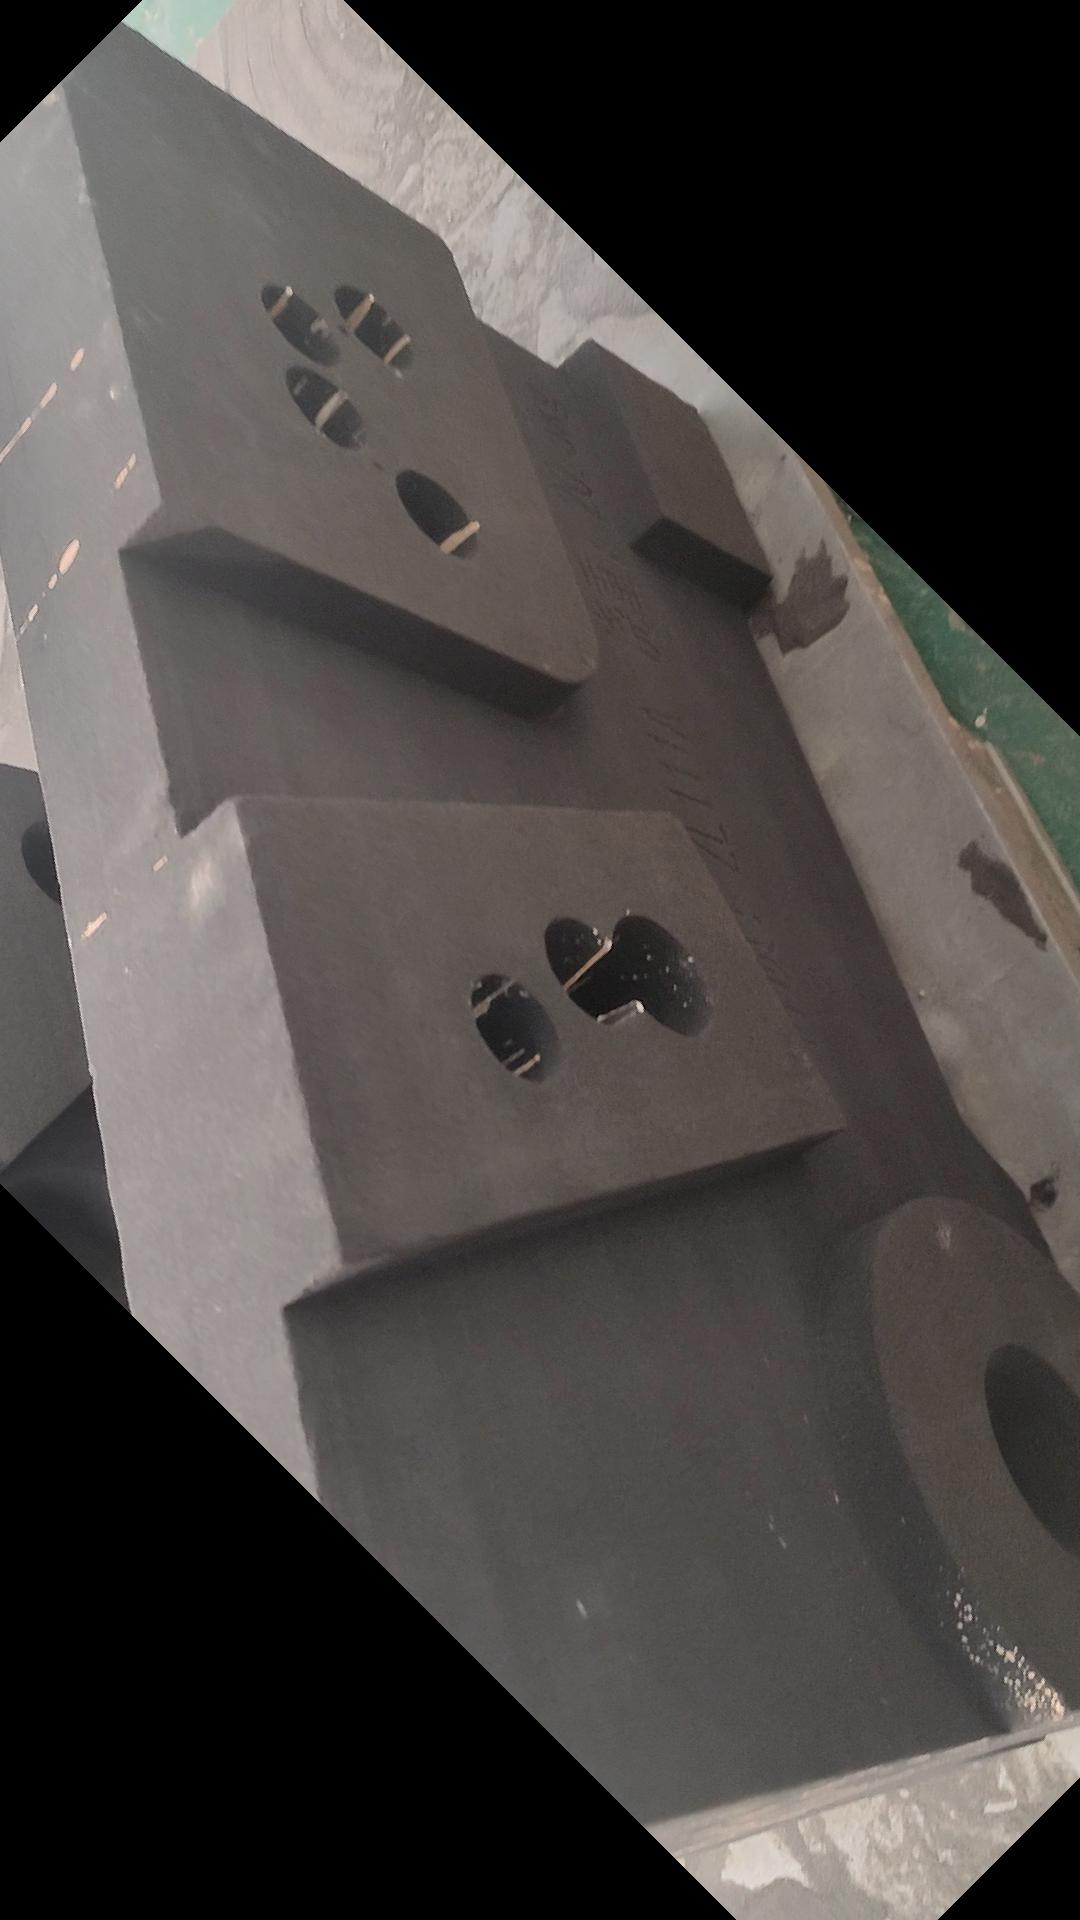pouring hole: (988, 1344, 1080, 1559), (15, 818, 109, 910)
